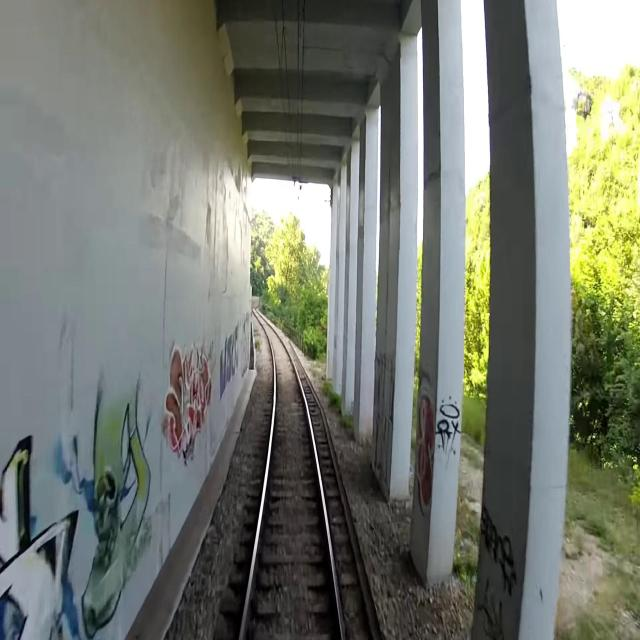rail-track: (243, 318, 340, 639)
